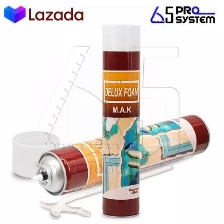aerosol_cans: (26, 111, 214, 200), (97, 19, 142, 219)
